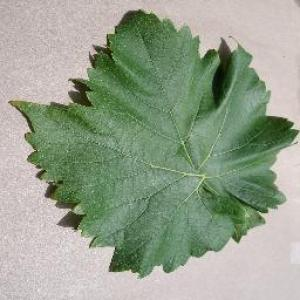Folha: (7, 8, 299, 278)
